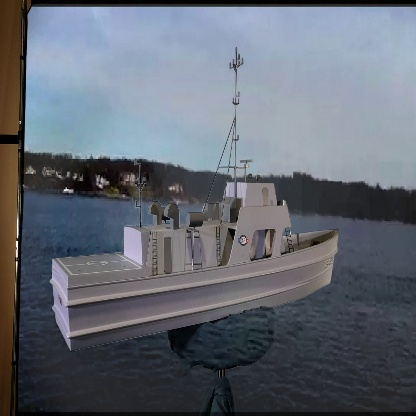YP689: (50, 46, 339, 351)
